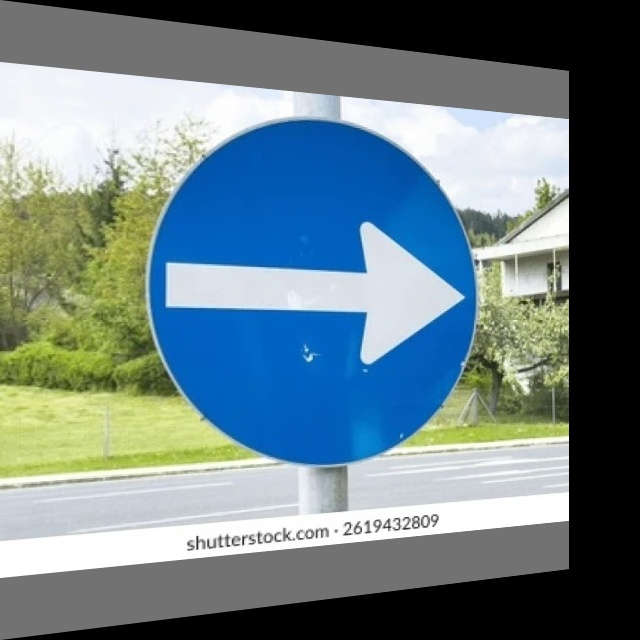Compulsory_Turn_Right: (145, 101, 477, 480)
